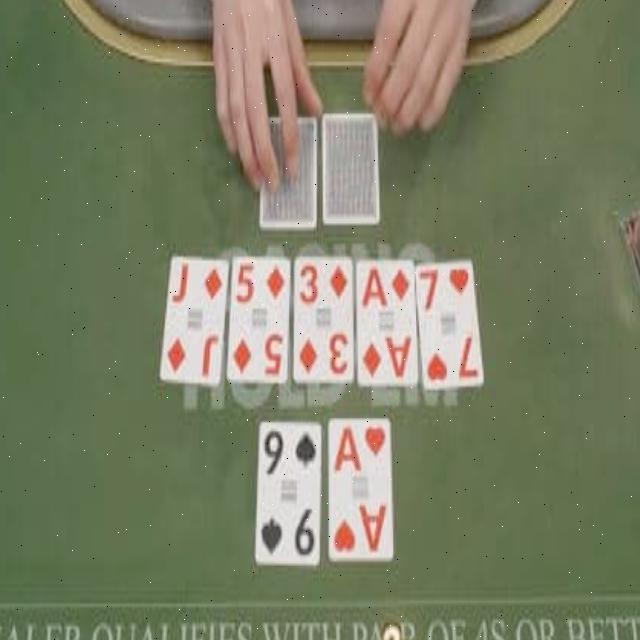Card-3: (295, 253, 352, 382)
Card-5: (228, 255, 290, 384)
Card-7: (416, 259, 483, 391)
Card-9: (255, 419, 321, 566)
Card-A: (330, 415, 392, 560), (358, 259, 416, 386)
Card-J: (160, 253, 228, 380)
